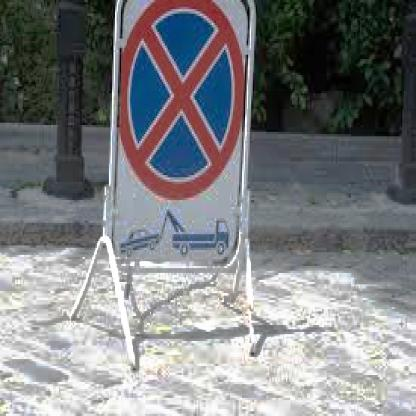No stopping: (119, 0, 247, 196)
